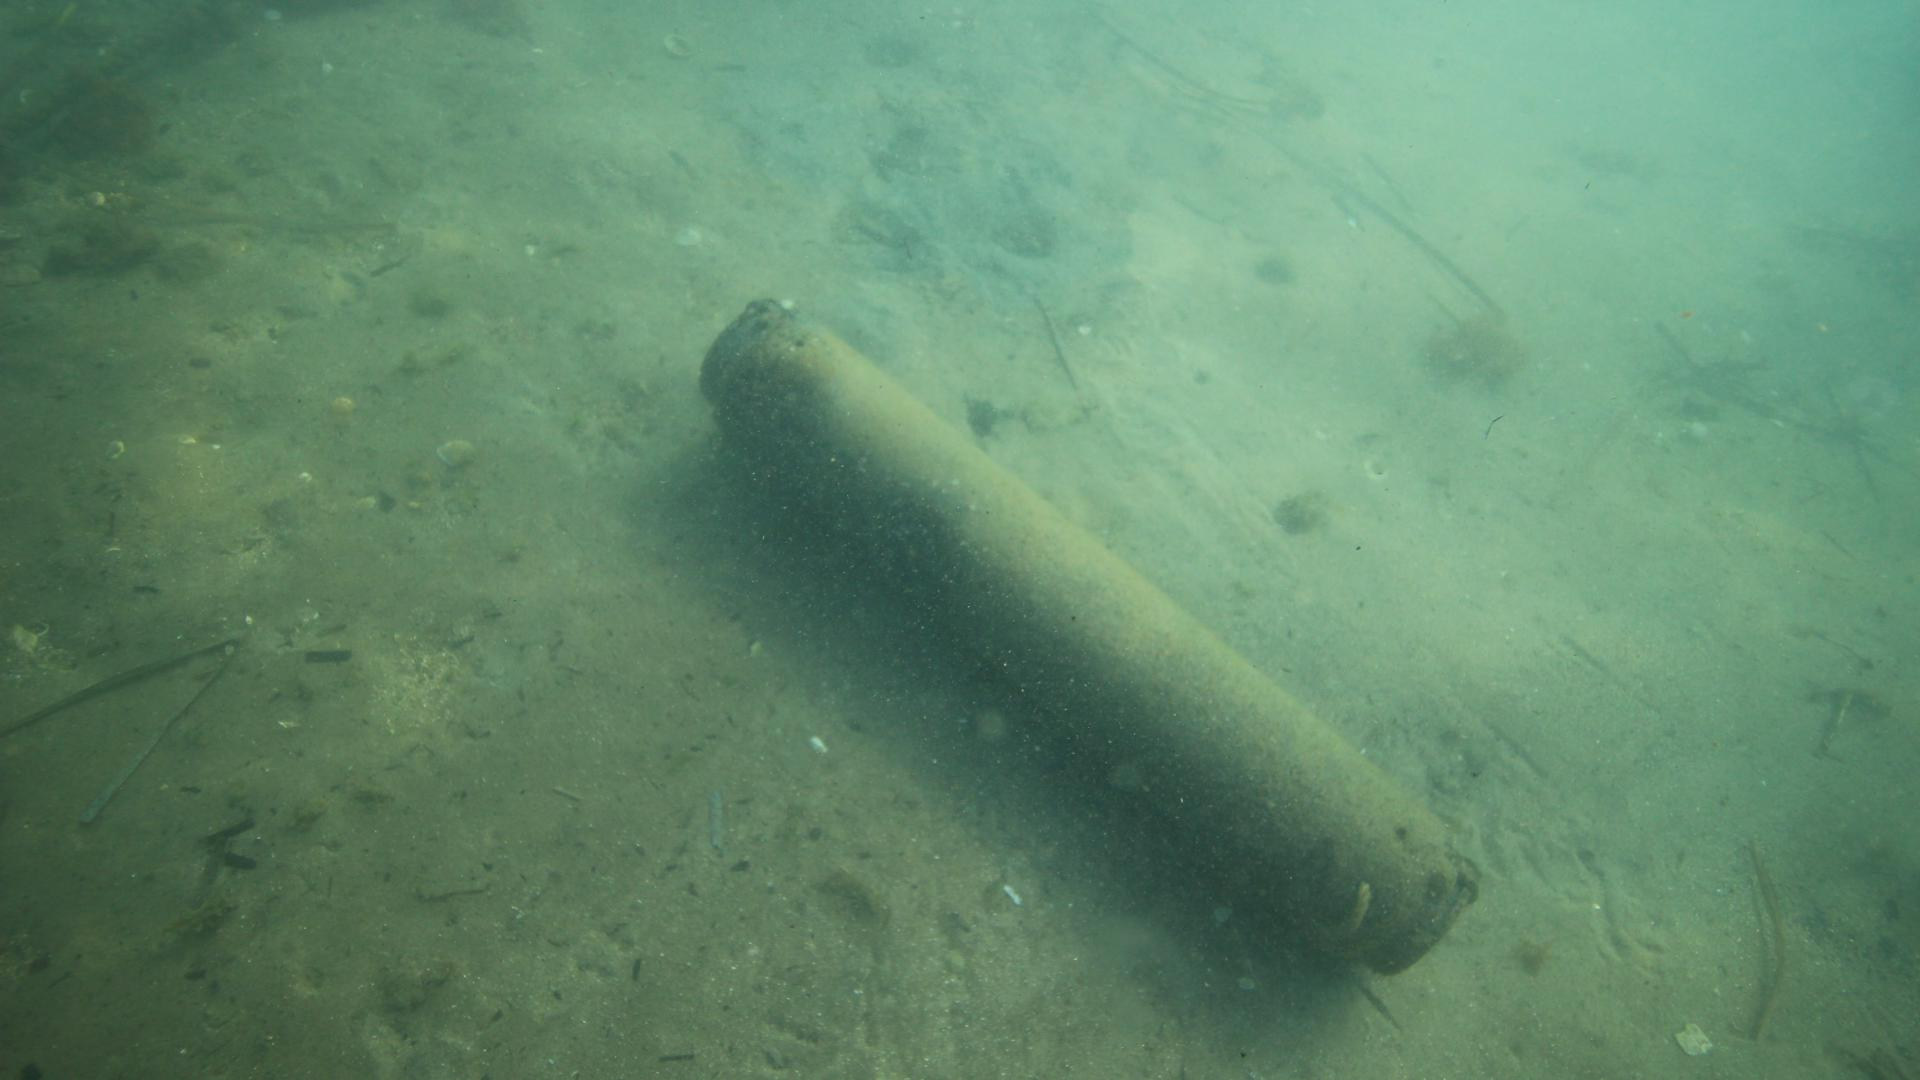eel fish trap: (694, 299, 1484, 978)
